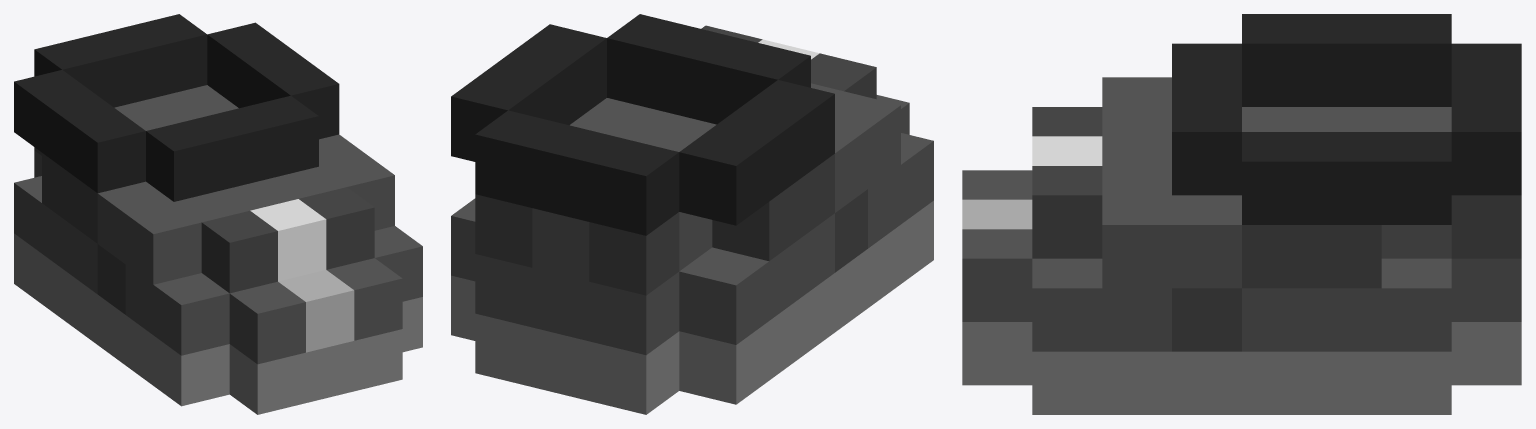
The model's file is player-3.obj.
3 renders of one model, left to right at view 1: azimuth 30°, elevation 25°; view 2: azimuth 150°, elevation 25°; view 3: azimuth 270°, elevation 25°, orthographic. The views are drawn at different scales.
Bounding box in the file's own units: 0.5 × 0.4 × 0.8.
1 material, 1 textured.
